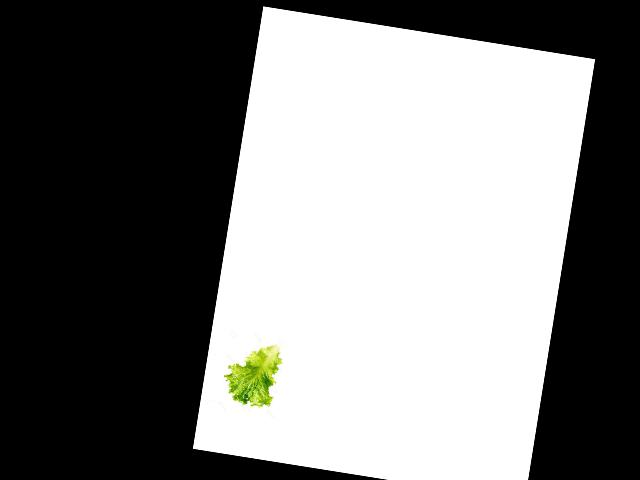lettuce: (221, 337, 281, 409)
